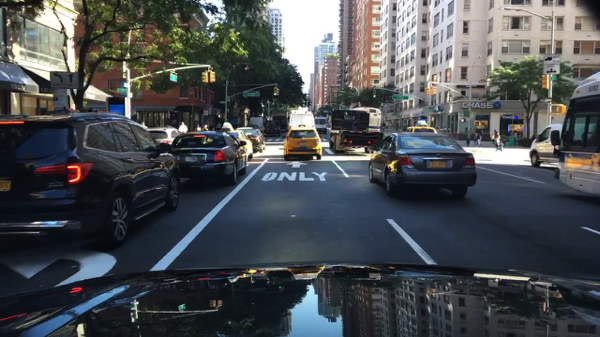bike: (494, 135, 504, 153), (464, 135, 471, 149)
bus: (553, 71, 599, 199), (348, 107, 381, 134), (287, 107, 315, 127)
car: (0, 113, 181, 251), (368, 132, 477, 199), (169, 131, 248, 185), (528, 123, 571, 168), (284, 125, 323, 161), (147, 127, 187, 151), (226, 129, 253, 159), (234, 127, 265, 153), (405, 127, 440, 137), (264, 119, 280, 136), (314, 117, 327, 134), (245, 123, 257, 137)
person: (178, 122, 188, 146), (493, 130, 502, 150), (476, 130, 484, 146), (194, 123, 201, 140), (202, 123, 209, 139), (217, 121, 222, 141)
rider: (465, 128, 472, 145), (494, 131, 499, 150)
traffic light: (202, 70, 209, 83), (541, 76, 548, 89), (431, 85, 437, 97), (425, 85, 430, 97), (211, 69, 215, 83), (277, 85, 281, 99), (273, 87, 278, 97), (373, 90, 377, 98)
traffic sign: (543, 54, 560, 75), (49, 70, 66, 88), (53, 89, 67, 110), (69, 72, 80, 91), (242, 92, 260, 97), (391, 96, 408, 101), (549, 76, 559, 83), (170, 74, 178, 82), (116, 88, 129, 92), (544, 99, 552, 103)
truck: (328, 109, 384, 154)
